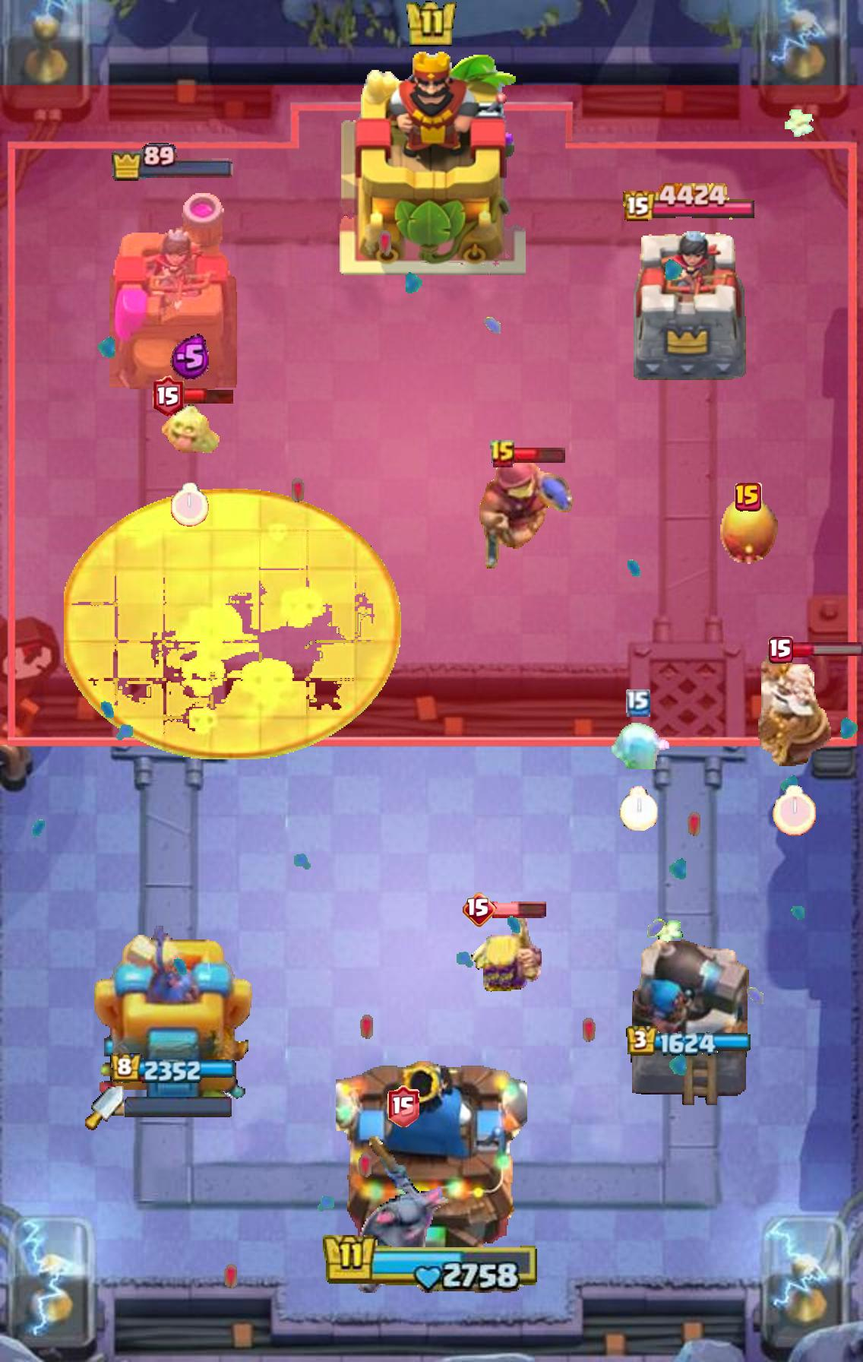elixir: (170, 334, 210, 381)
ice-spirit: (605, 721, 672, 769)
